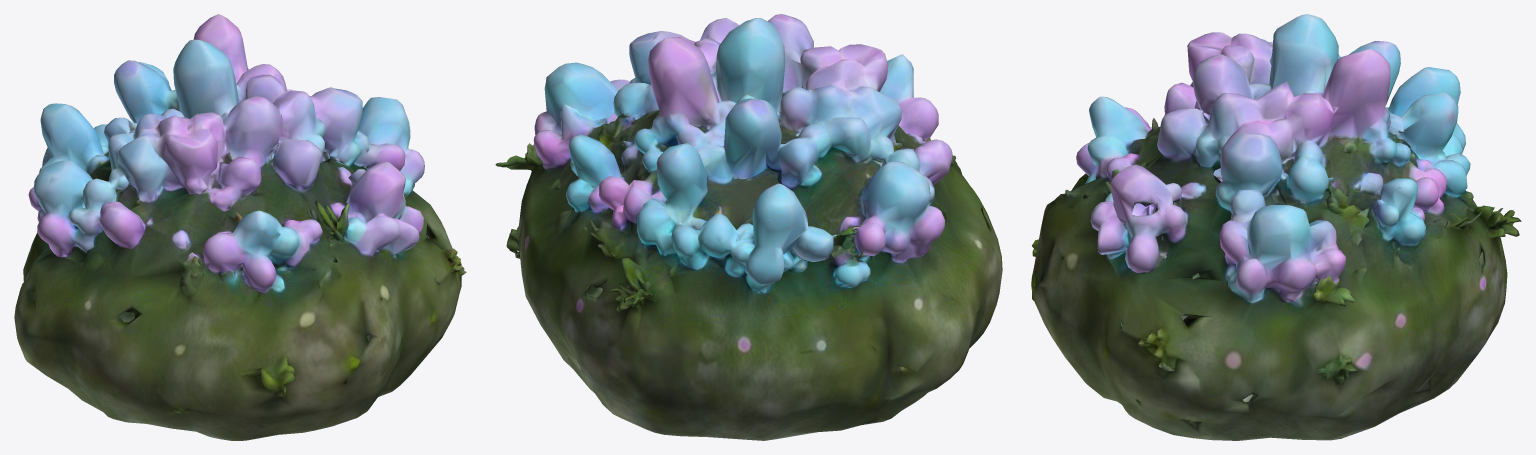
The model's file is crystal_small.glb.
3 views of the same model, side by side, from view 1: azimuth 30°, elevation 25°; view 2: azimuth 150°, elevation 25°; view 3: azimuth 270°, elevation 25° (orthographic). The views are drawn at different scales.
Size of the model in its own units: 2 by 1.59 by 2.
Materials: 1 (1 with a texture image).
